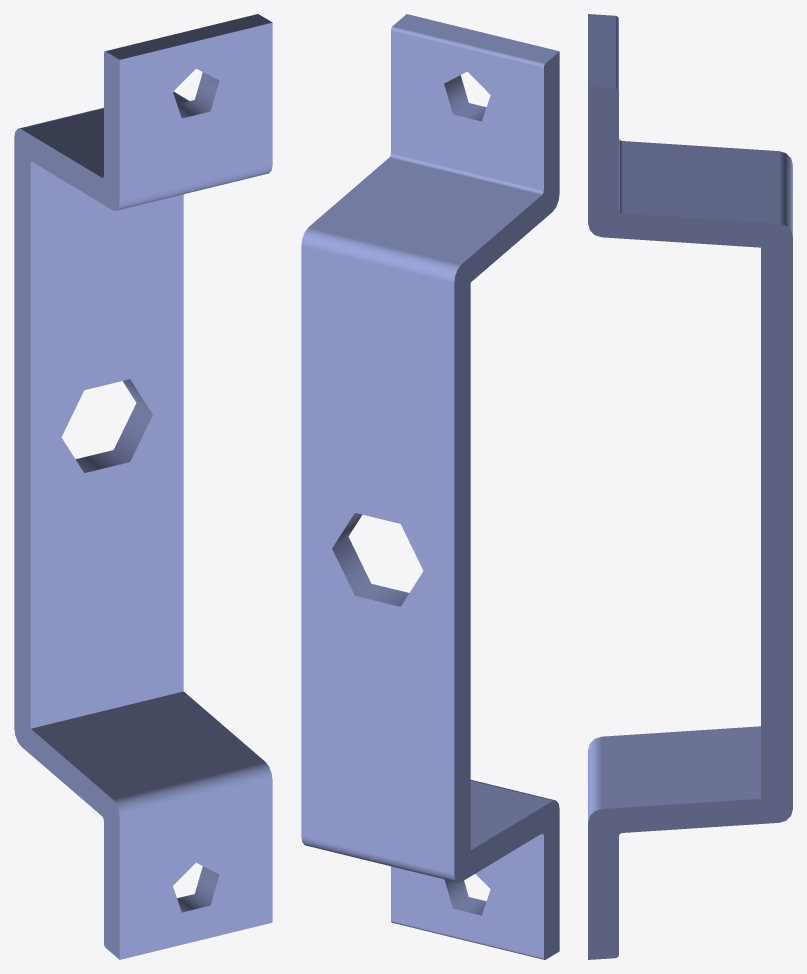
The model's file is Copie de Pont de chauss_X2_00e9_X0_^Copie de Ass Pont de chauss_X2_00e9_X0_e_Horloge Comtoise Verge - Sonnerie.obj.
The picture shows the model from 3 angles, left to right: view 1: azimuth 30°, elevation 25°; view 2: azimuth 150°, elevation 25°; view 3: azimuth 270°, elevation 25°; orthographic projection. The views are drawn at different scales.
Parts seen in each view (by area): view 1: Face_15, Face_13, Face_17, Face_4, Face_16, Face_25, Face_10, Face_6, Face_12, Face_24, Face_20, Face_23; view 2: Face_1, Face_4, Face_11, Face_10, Face_8, Face_5, Face_16, Face_12, Face_6, Face_3, Face_23, Face_21 (+2 smaller); view 3: Face_2, Face_16, Face_10, Face_12, Face_5, Face_25.
Boxes of the visible parts, x1,y1,x2,y2 form: Face_15: [30, 161, 183, 728]; Face_13: [119, 22, 272, 201]; Face_17: [119, 781, 272, 959]; Face_4: [14, 51, 119, 959]; Face_16: [31, 691, 264, 799]; Face_25: [113, 762, 272, 817]; Face_10: [21, 92, 189, 177]; Face_6: [76, 379, 152, 472]; Face_12: [106, 14, 272, 59]; Face_24: [116, 164, 272, 210]; Face_20: [177, 866, 219, 912]; Face_23: [177, 72, 219, 118]; Face_1: [301, 246, 454, 873]; Face_4: [454, 51, 559, 959]; Face_11: [391, 31, 543, 190]; Face_10: [309, 157, 541, 264]; Face_8: [391, 834, 543, 957]; Face_5: [301, 227, 460, 283]; Face_16: [470, 781, 551, 849]; Face_12: [393, 14, 558, 63]; Face_6: [332, 513, 409, 606]; Face_3: [301, 836, 457, 882]; Face_23: [444, 75, 486, 121]; Face_21: [389, 153, 543, 194]; Face_2: [588, 86, 792, 959]; Face_16: [601, 726, 760, 808]; Face_10: [622, 141, 779, 223]; Face_12: [588, 14, 615, 88]; Face_5: [779, 151, 792, 236]; Face_25: [588, 736, 601, 821].
Size of the model in its own units: 0.0117 by 0.0658 by 0.014.
